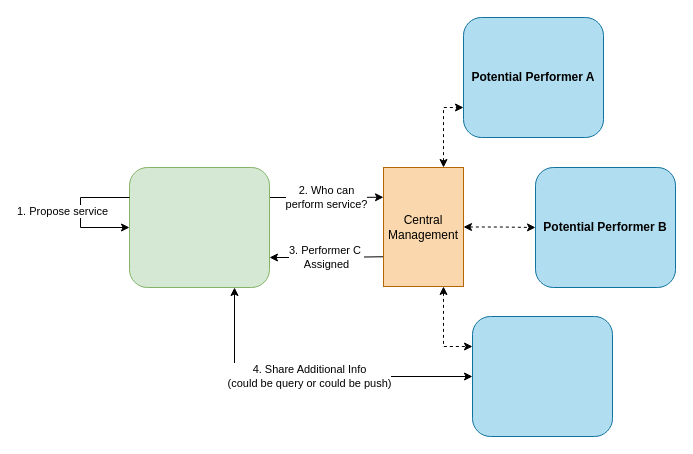
The diagram is 693 pixels wide and 454 high, and some of its shapes have lost their labels. The centre of each missing label's shape, as x and y in pixels:
"Potential Performer C" goes at (542,376).
"Requestor" goes at (199,227).
